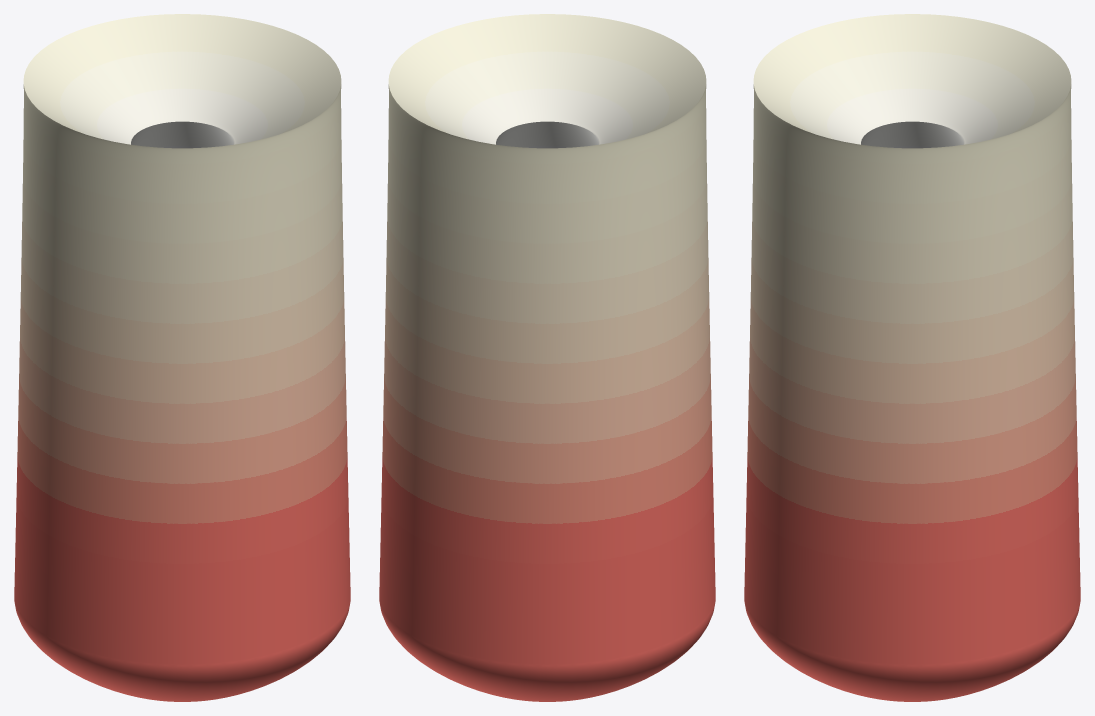
Rendered from CG_cup.gltf.
3 views of the same model, side by side, from view 1: azimuth 30°, elevation 25°; view 2: azimuth 150°, elevation 25°; view 3: azimuth 270°, elevation 25° (orthographic).
Bounding box in the file's own units: 0.0732 × 0.1404 × 0.0733.
1 material, 1 textured.
